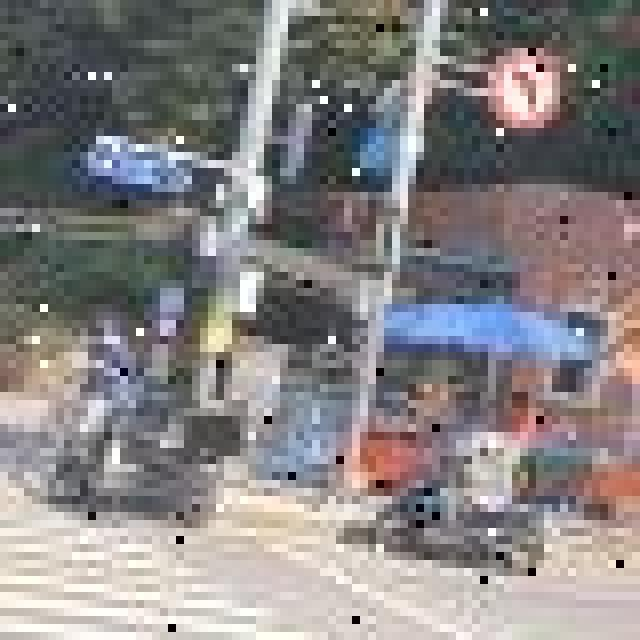crosswalk: (0, 504, 360, 632)
